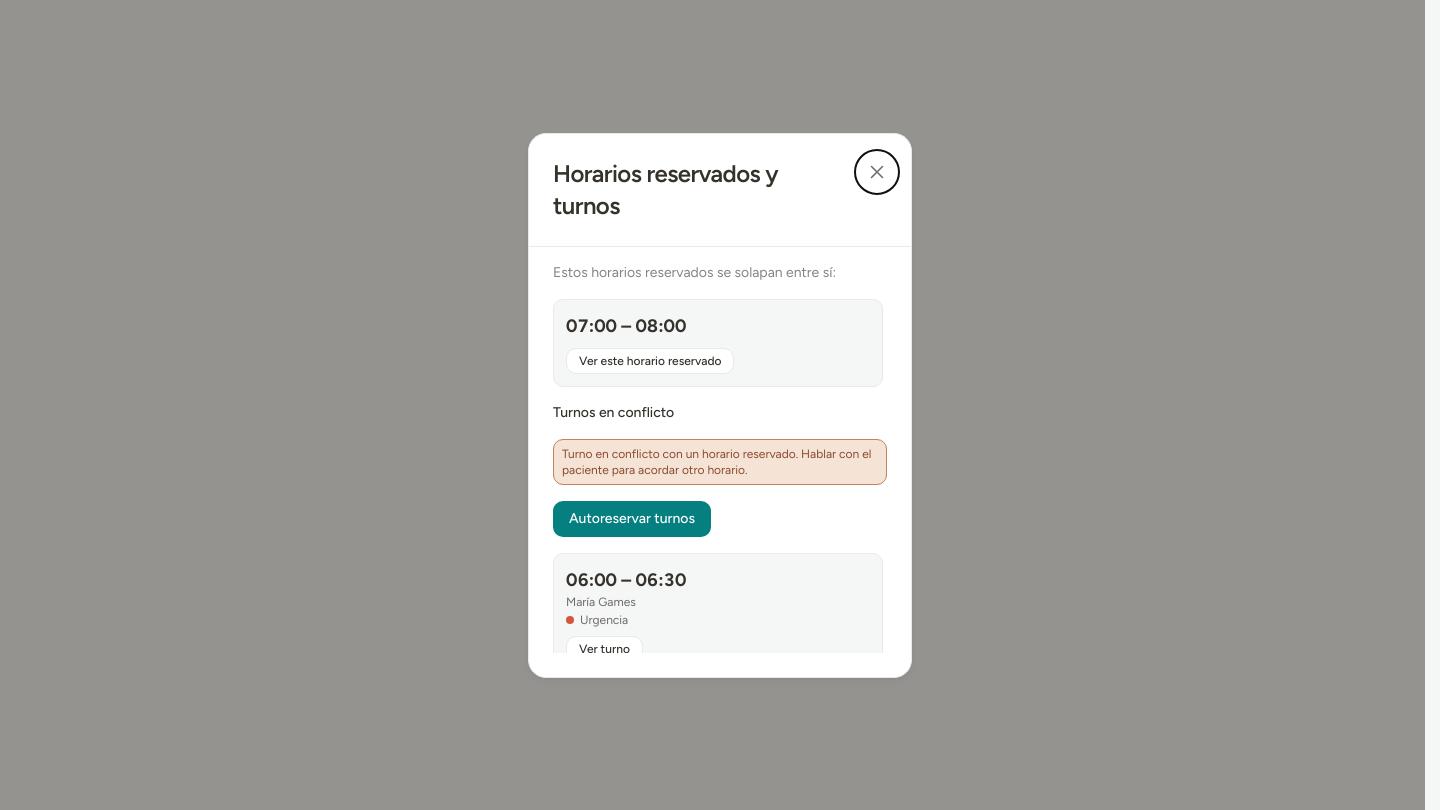
Scenario: BloqueoDetalleModal › autoreservar turnos › con varios turnos reprogramados, el alto visible es de 3.5 tarjetas, no 1
Click the button "Autoreservar turnos" at [632, 518], box [553,500,711,536]
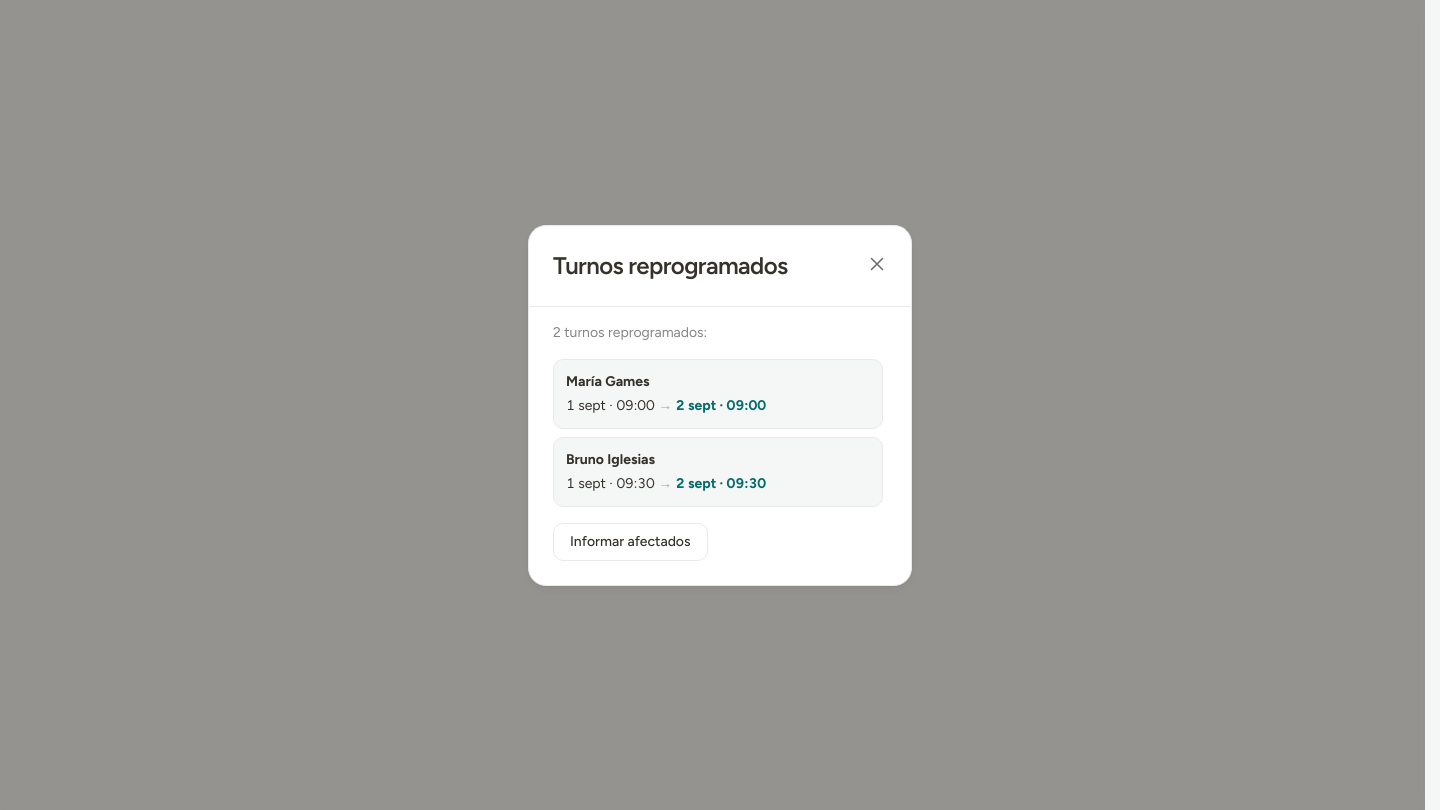
Expected: the heading "Turnos reprogramados" is shown, [553,250,788,282]
